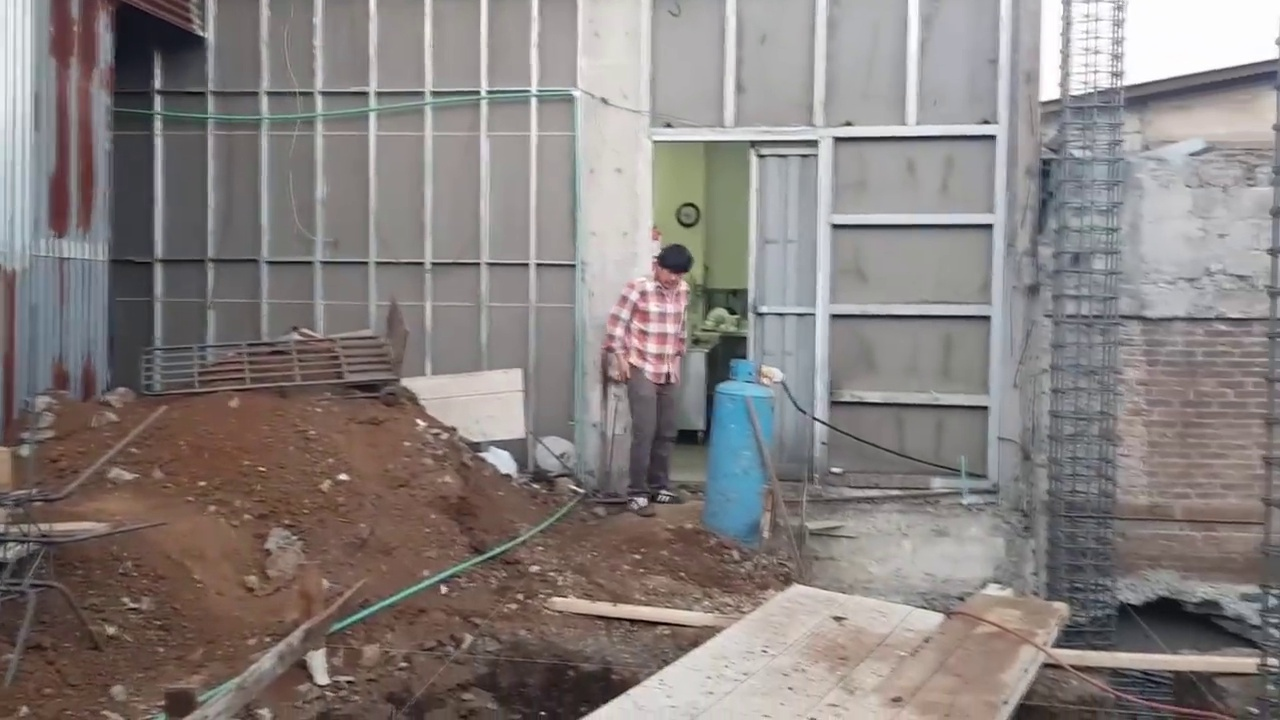helmet-off: (655, 244, 698, 295)
person: (605, 240, 707, 511)
